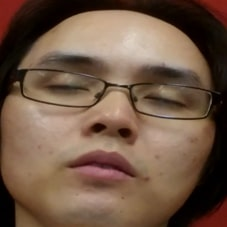drowsy: (33, 43, 204, 201)
